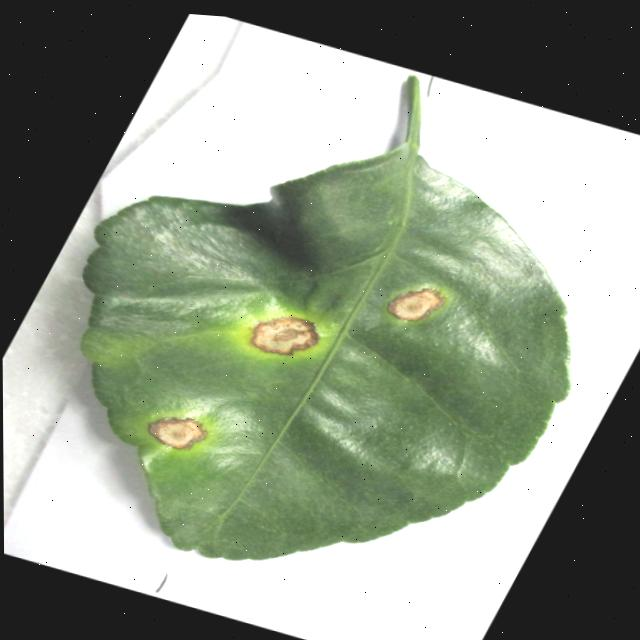antracnose: (83, 75, 569, 559), (251, 316, 318, 353), (148, 416, 206, 448), (388, 287, 445, 319)
